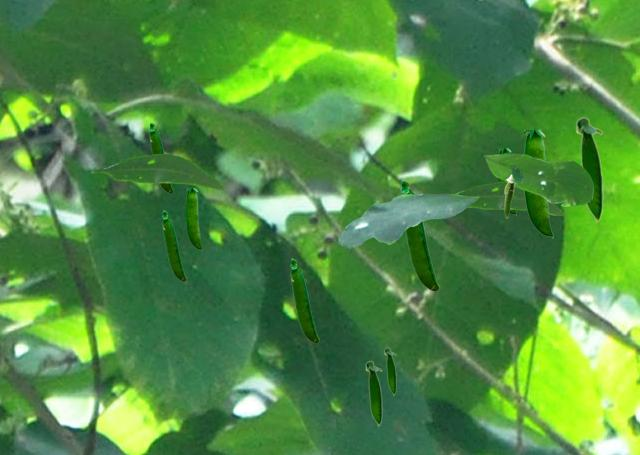pea: (400, 179, 438, 290), (524, 130, 552, 237), (575, 116, 602, 223), (290, 258, 318, 342), (149, 122, 172, 192), (162, 210, 185, 280), (498, 148, 515, 214), (365, 360, 381, 426), (186, 188, 201, 249), (384, 347, 395, 395), (504, 174, 515, 217)
